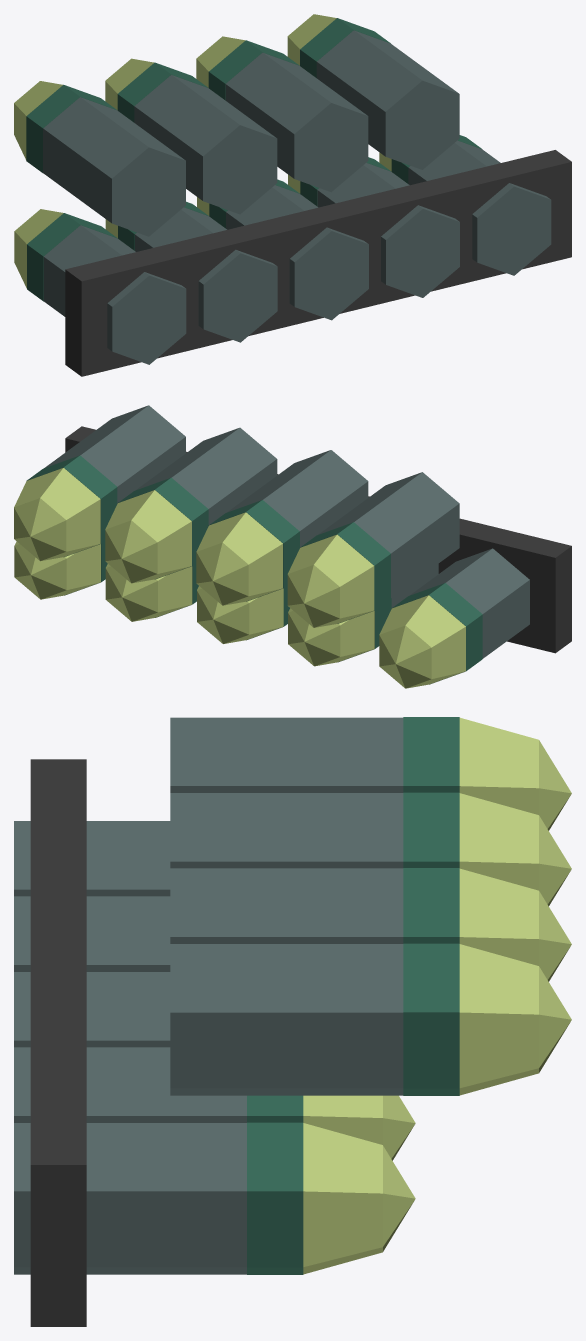
Rendered from ce_ammo2_grenade_tox_b.obj.
The picture shows the model from 3 angles, top to bottom: view 1: azimuth 30°, elevation 25°; view 2: azimuth 150°, elevation 25°; view 3: azimuth 270°, elevation 25°; orthographic projection. The views are drawn at different scales.
Parts seen in each view (by area): view 1: ce_ammo2_grenade_tox_b_36, ce_ammo2_grenade_tox_b_20, ce_ammo2_grenade_tox_b_28, ce_ammo2_grenade_tox_b_24, ce_ammo2_grenade_tox_b_32, ce_ammo2_grenade_tox_b_0, ce_ammo2_grenade_tox_b_16, ce_ammo2_grenade_tox_b_8, ce_ammo2_grenade_tox_b_4, ce_ammo2_grenade_tox_b_12, ce_ammo2_grenade_tox_b_21, ce_ammo2_grenade_tox_b_1 (+8 smaller); view 2: ce_ammo2_grenade_tox_b_20, ce_ammo2_grenade_tox_b_36, ce_ammo2_grenade_tox_b_28, ce_ammo2_grenade_tox_b_24, ce_ammo2_grenade_tox_b_32, ce_ammo2_grenade_tox_b_0, ce_ammo2_grenade_tox_b_22, ce_ammo2_grenade_tox_b_30, ce_ammo2_grenade_tox_b_34, ce_ammo2_grenade_tox_b_2, ce_ammo2_grenade_tox_b_26, ce_ammo2_grenade_tox_b_3 (+19 smaller); view 3: ce_ammo2_grenade_tox_b_32, ce_ammo2_grenade_tox_b_36, ce_ammo2_grenade_tox_b_16, ce_ammo2_grenade_tox_b_28, ce_ammo2_grenade_tox_b_20, ce_ammo2_grenade_tox_b_24, ce_ammo2_grenade_tox_b_34, ce_ammo2_grenade_tox_b_18, ce_ammo2_grenade_tox_b_12, ce_ammo2_grenade_tox_b_33, ce_ammo2_grenade_tox_b_17, ce_ammo2_grenade_tox_b_4 (+16 smaller).
Part boxes in pixels (x1,y1,x2,y2): ce_ammo2_grenade_tox_b_36: [65, 150, 571, 376]; ce_ammo2_grenade_tox_b_20: [43, 97, 185, 236]; ce_ammo2_grenade_tox_b_28: [225, 52, 368, 192]; ce_ammo2_grenade_tox_b_24: [134, 75, 277, 214]; ce_ammo2_grenade_tox_b_32: [316, 30, 459, 169]; ce_ammo2_grenade_tox_b_0: [43, 225, 186, 364]; ce_ammo2_grenade_tox_b_16: [408, 140, 551, 275]; ce_ammo2_grenade_tox_b_8: [226, 185, 368, 320]; ce_ammo2_grenade_tox_b_4: [135, 207, 277, 342]; ce_ammo2_grenade_tox_b_12: [317, 162, 459, 297]; ce_ammo2_grenade_tox_b_21: [26, 84, 116, 172]; ce_ammo2_grenade_tox_b_1: [27, 213, 117, 301]; ce_ammo2_grenade_tox_b_20: [318, 472, 459, 597]; ce_ammo2_grenade_tox_b_36: [65, 426, 571, 653]; ce_ammo2_grenade_tox_b_28: [135, 427, 277, 524]; ce_ammo2_grenade_tox_b_24: [226, 450, 368, 547]; ce_ammo2_grenade_tox_b_32: [44, 405, 185, 503]; ce_ammo2_grenade_tox_b_0: [409, 548, 529, 658]; ce_ammo2_grenade_tox_b_22: [288, 534, 374, 627]; ce_ammo2_grenade_tox_b_30: [105, 490, 191, 583]; ce_ammo2_grenade_tox_b_34: [14, 468, 100, 560]; ce_ammo2_grenade_tox_b_2: [379, 595, 465, 688]; ce_ammo2_grenade_tox_b_26: [196, 512, 282, 605]; ce_ammo2_grenade_tox_b_3: [379, 625, 431, 688]; ce_ammo2_grenade_tox_b_32: [170, 944, 403, 1095]; ce_ammo2_grenade_tox_b_36: [30, 759, 86, 1326]; ce_ammo2_grenade_tox_b_16: [14, 1123, 246, 1274]; ce_ammo2_grenade_tox_b_28: [170, 868, 403, 943]; ce_ammo2_grenade_tox_b_20: [170, 717, 403, 792]; ce_ammo2_grenade_tox_b_24: [170, 793, 403, 868]; ce_ammo2_grenade_tox_b_34: [459, 944, 538, 1095]; ce_ammo2_grenade_tox_b_18: [303, 1123, 382, 1274]; ce_ammo2_grenade_tox_b_12: [14, 1047, 246, 1122]; ce_ammo2_grenade_tox_b_33: [403, 943, 459, 1095]; ce_ammo2_grenade_tox_b_17: [247, 1122, 303, 1274]; ce_ammo2_grenade_tox_b_4: [14, 896, 170, 971].
Bounding box in the file's own units: 0.86 × 0.2904 × 0.5.
